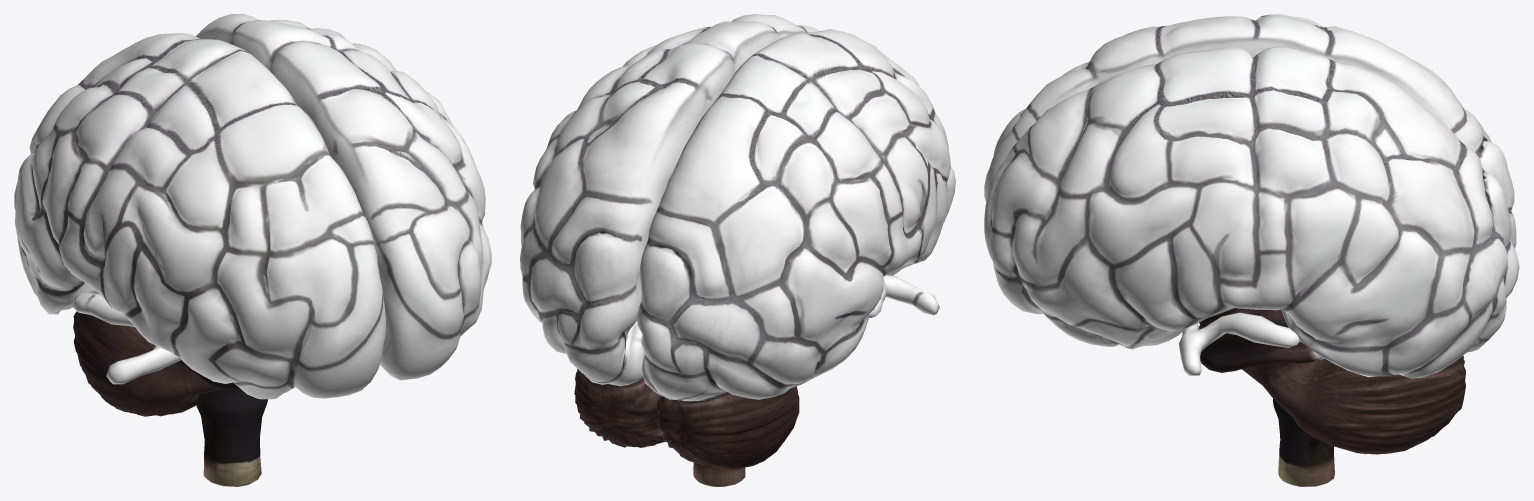
The model's file is platinum-brain.glb.
3 renders of one model, left to right at view 1: azimuth 30°, elevation 25°; view 2: azimuth 150°, elevation 25°; view 3: azimuth 270°, elevation 25°, orthographic. The views are drawn at different scales.
Size of the model in its own units: 1.49 by 1.74 by 1.92.
Materials: 1 (1 with a texture image).
